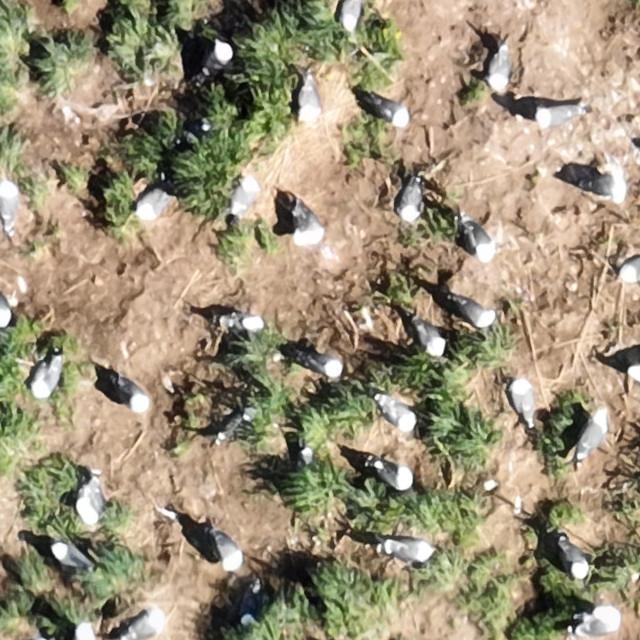umineko: (74, 476, 108, 524), (298, 78, 328, 130), (398, 174, 422, 222), (578, 416, 606, 456), (383, 399, 418, 429), (489, 45, 509, 97), (388, 540, 433, 563), (204, 41, 234, 75), (467, 223, 495, 259), (458, 300, 496, 326), (215, 534, 244, 568), (511, 381, 534, 423), (372, 97, 409, 123), (302, 354, 342, 378), (416, 322, 445, 355), (376, 464, 414, 489), (35, 361, 62, 396), (297, 208, 323, 244), (118, 380, 148, 411), (576, 176, 618, 198), (135, 189, 166, 218), (564, 543, 589, 578), (232, 180, 256, 213), (51, 544, 83, 568), (538, 107, 574, 127), (2, 184, 18, 228), (339, 2, 362, 32), (218, 414, 244, 439), (241, 586, 259, 622), (620, 257, 640, 281), (240, 315, 264, 331), (0, 292, 10, 326)
